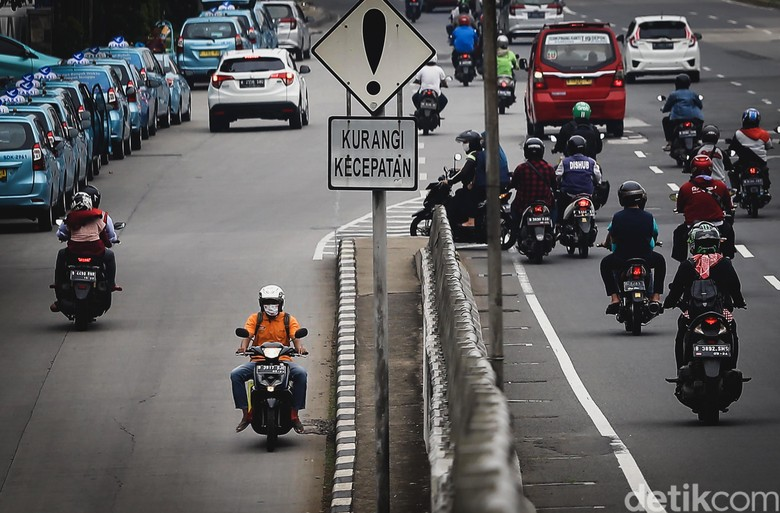car: (524, 21, 623, 143), (34, 57, 127, 158), (206, 49, 312, 132), (1, 111, 71, 230), (180, 17, 249, 91), (2, 31, 63, 99), (255, 1, 311, 58)
motorbike: (671, 225, 750, 424), (233, 285, 307, 448), (414, 136, 516, 254), (52, 185, 125, 330), (602, 179, 665, 334), (666, 160, 737, 274), (619, 15, 703, 88), (512, 137, 557, 264), (559, 136, 602, 256), (729, 107, 774, 218), (660, 74, 701, 165), (409, 56, 447, 135), (448, 15, 483, 88), (489, 33, 519, 118)
